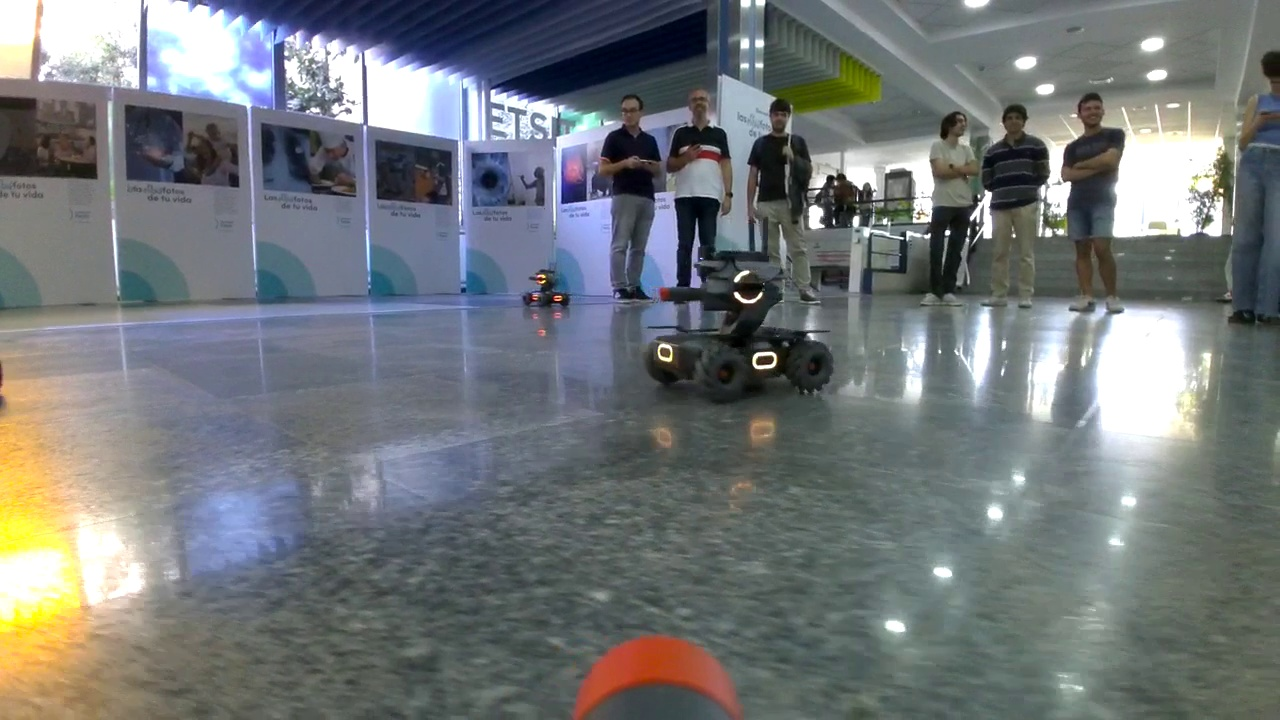robot: (645, 248, 835, 408), (526, 265, 567, 314)
